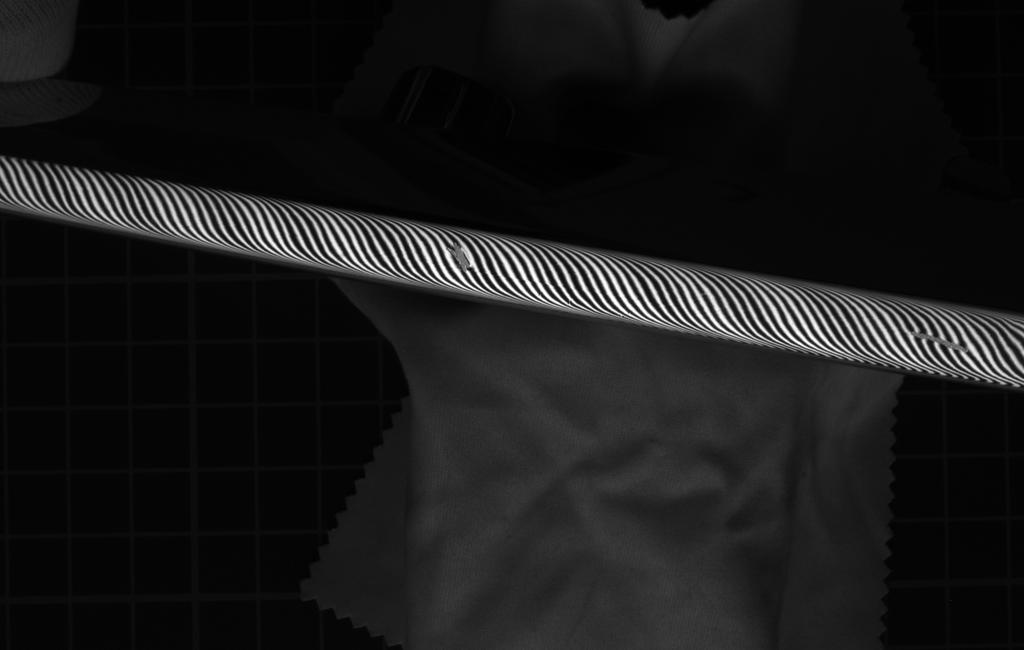Scratch: (901, 321, 989, 363), (441, 238, 490, 279)
